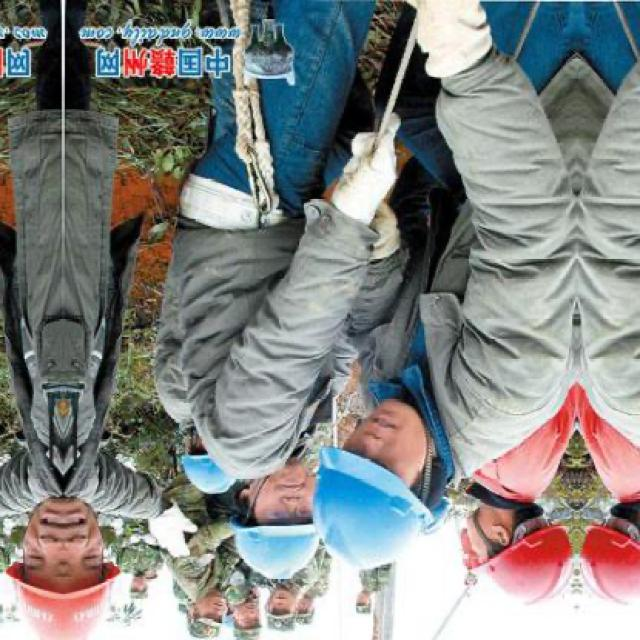con casco: (333, 414, 458, 554), (58, 504, 156, 612), (215, 490, 332, 578)
